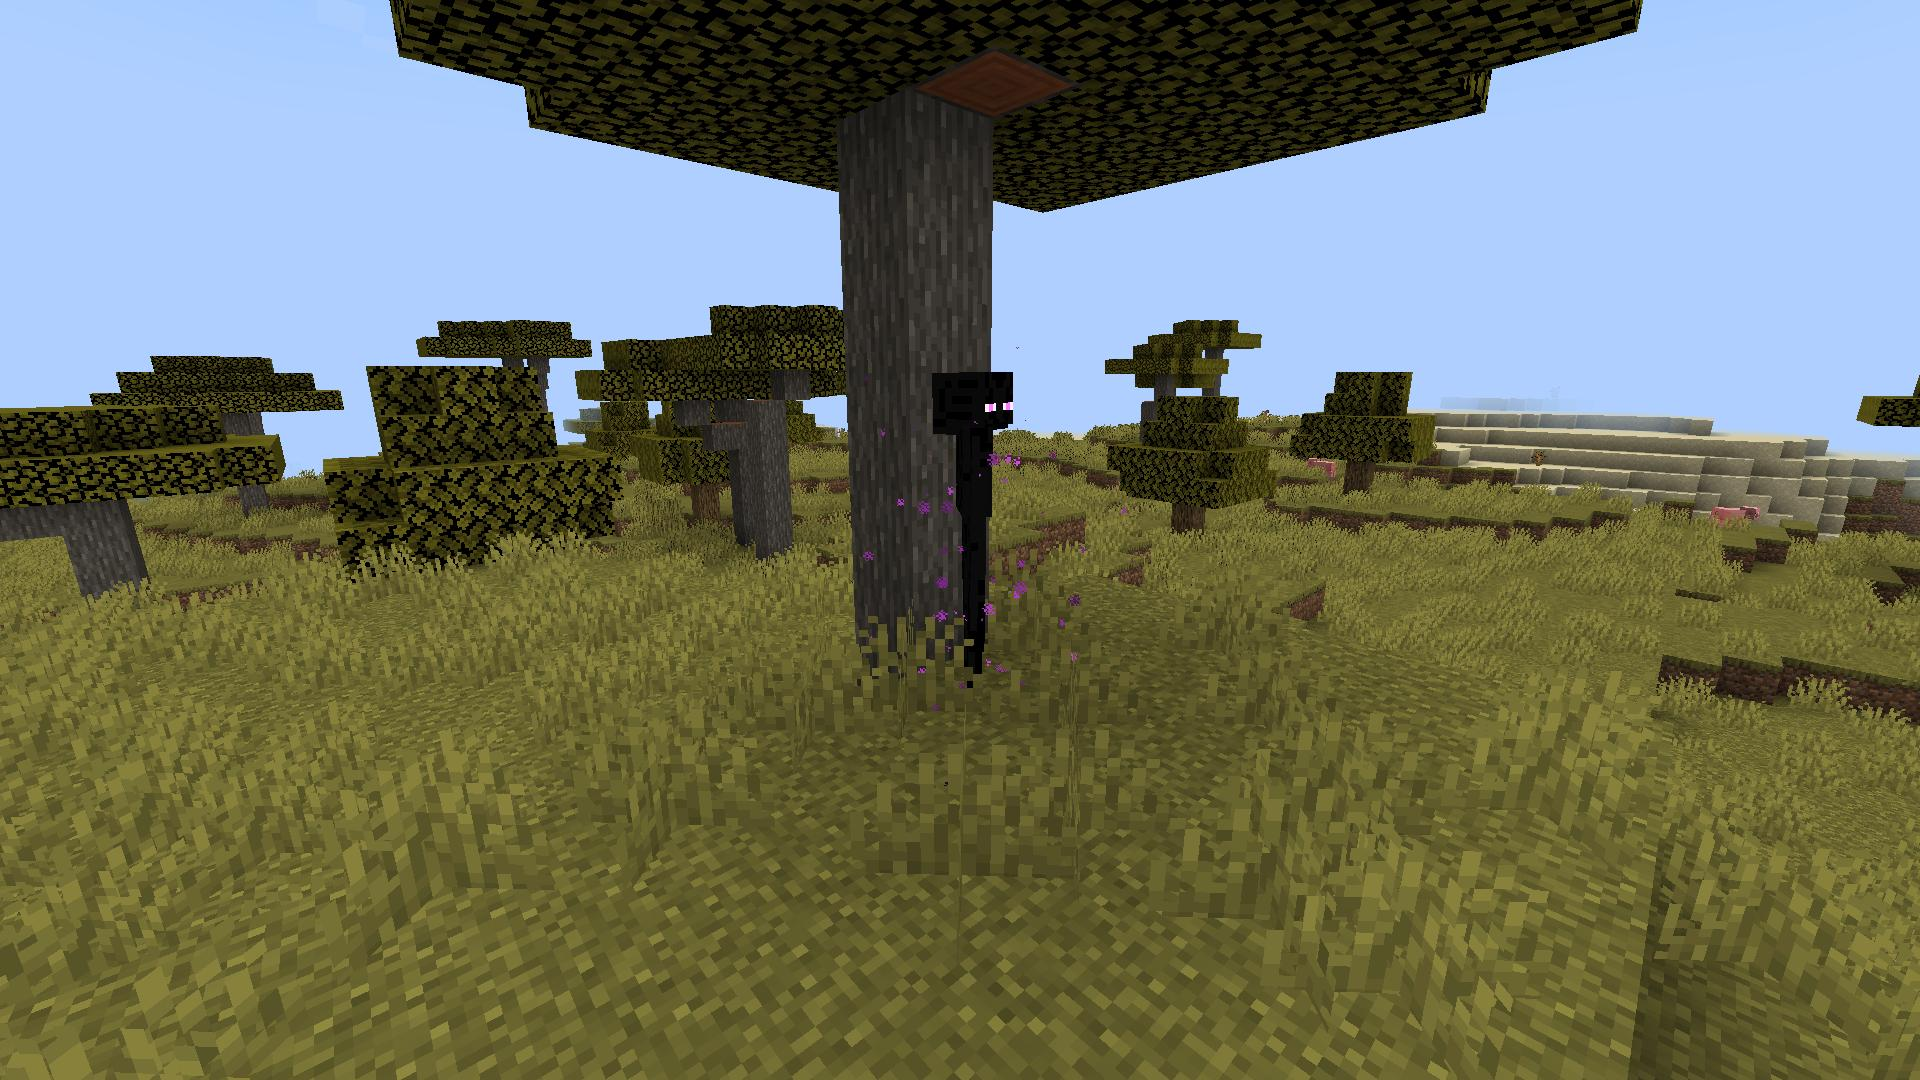enderman: (924, 360, 1025, 707)
pig: (1725, 505, 1760, 529), (1304, 455, 1337, 480), (1713, 504, 1731, 527)
